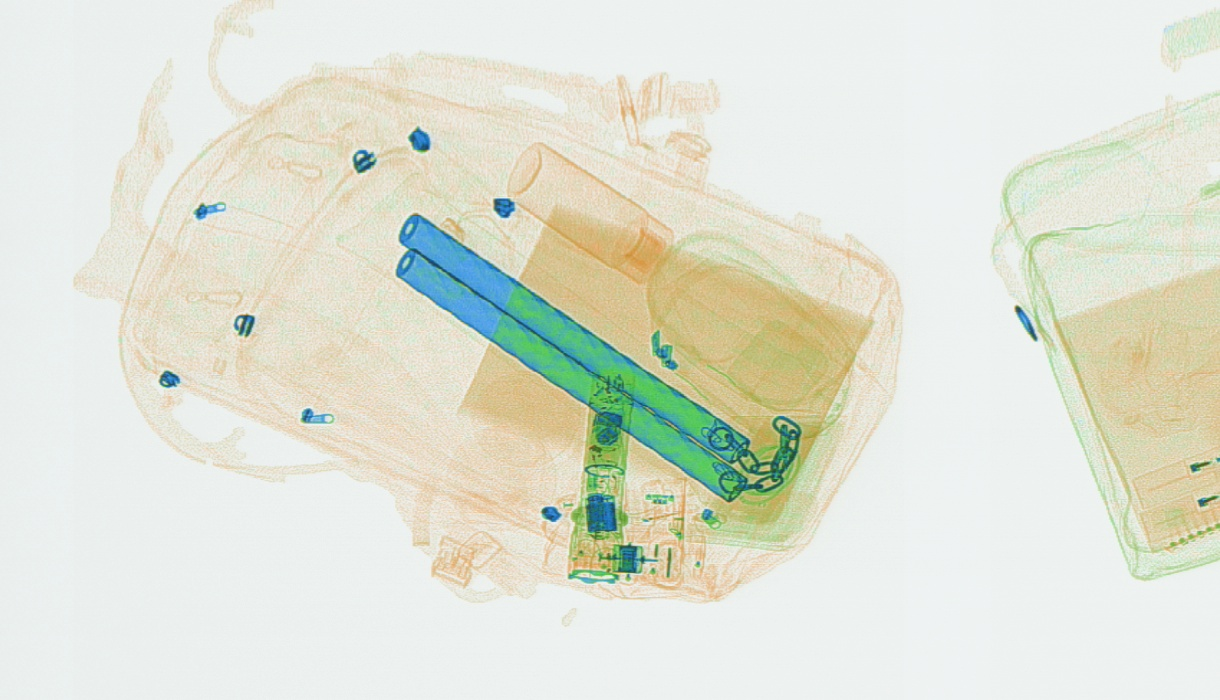lighter: (1135, 478, 1217, 556), (1129, 443, 1217, 513)
